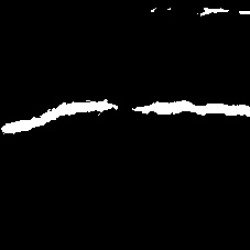crack: (3, 99, 119, 134), (131, 99, 247, 119), (198, 8, 229, 19)
pinhole: (148, 6, 159, 14)
